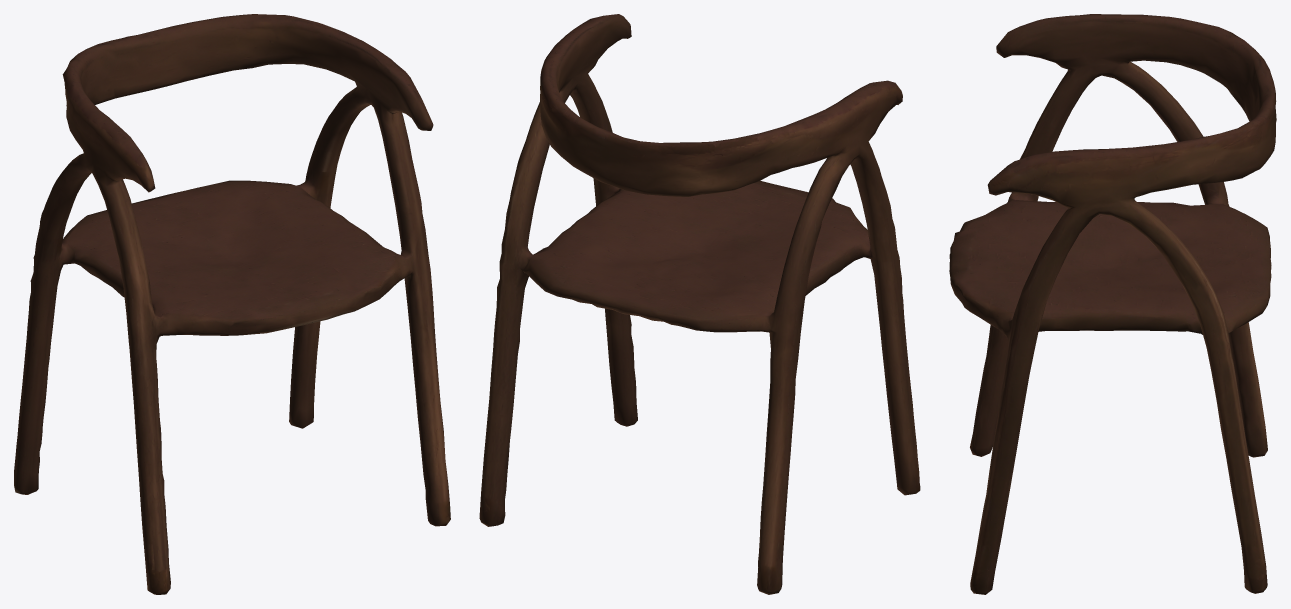
The picture shows the model from 3 angles, left to right: view 1: azimuth 30°, elevation 25°; view 2: azimuth 150°, elevation 25°; view 3: azimuth 270°, elevation 25°; orthographic projection.
Visible parts, largest first — view 1: Mesh_0; view 2: Mesh_0; view 3: Mesh_0.
Boxes of the visible parts, left/top/right/bottom form: Mesh_0: left=14, top=14, right=450, bottom=594; Mesh_0: left=479, top=14, right=920, bottom=594; Mesh_0: left=949, top=14, right=1276, bottom=594.
Size of the model in its own units: 1.38 by 1.91 by 1.28.
1 material, 1 textured.
